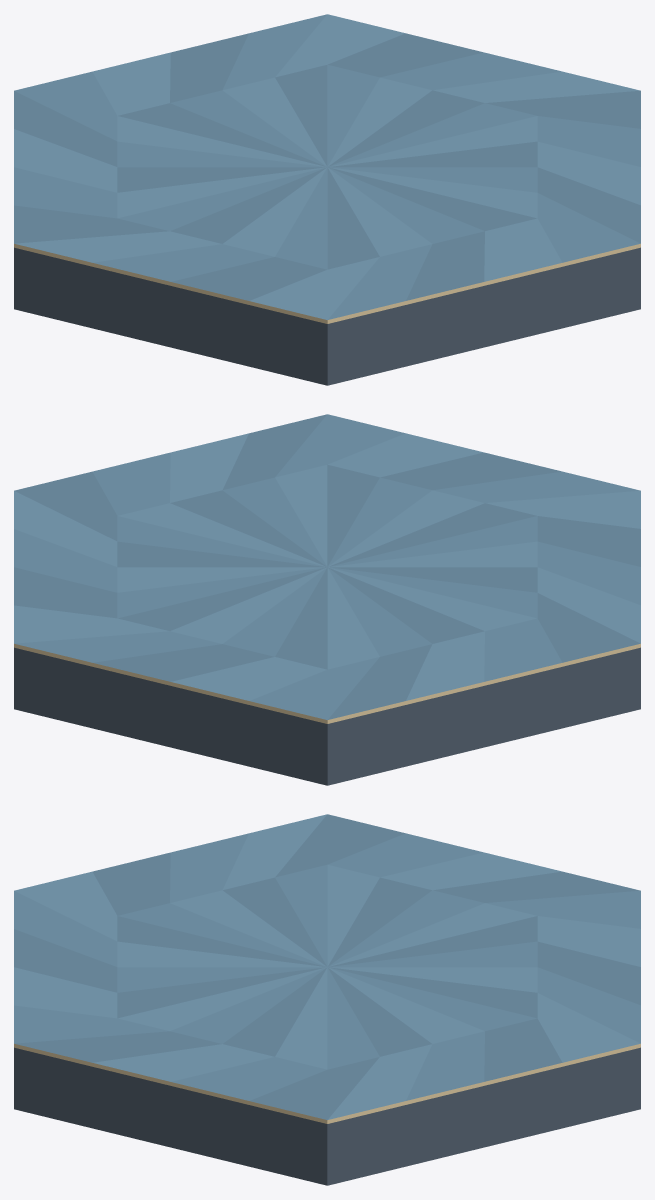
The model's file is terrain.glb.
3 views of the same model, one above another, from view 1: azimuth 30°, elevation 25°; view 2: azimuth 150°, elevation 25°; view 3: azimuth 270°, elevation 25° (orthographic).
Parts seen in each view (by area): view 1: Tile_马哈顿火车站; view 2: Tile_马哈顿火车站; view 3: Tile_马哈顿火车站.
Boxes of the visible parts, <box> form: Tile_马哈顿火车站: <box>14,14,640,385</box>; Tile_马哈顿火车站: <box>14,414,640,785</box>; Tile_马哈顿火车站: <box>14,814,640,1185</box>.
Size of the model in its own units: 2 by 0.2 by 1.73.
